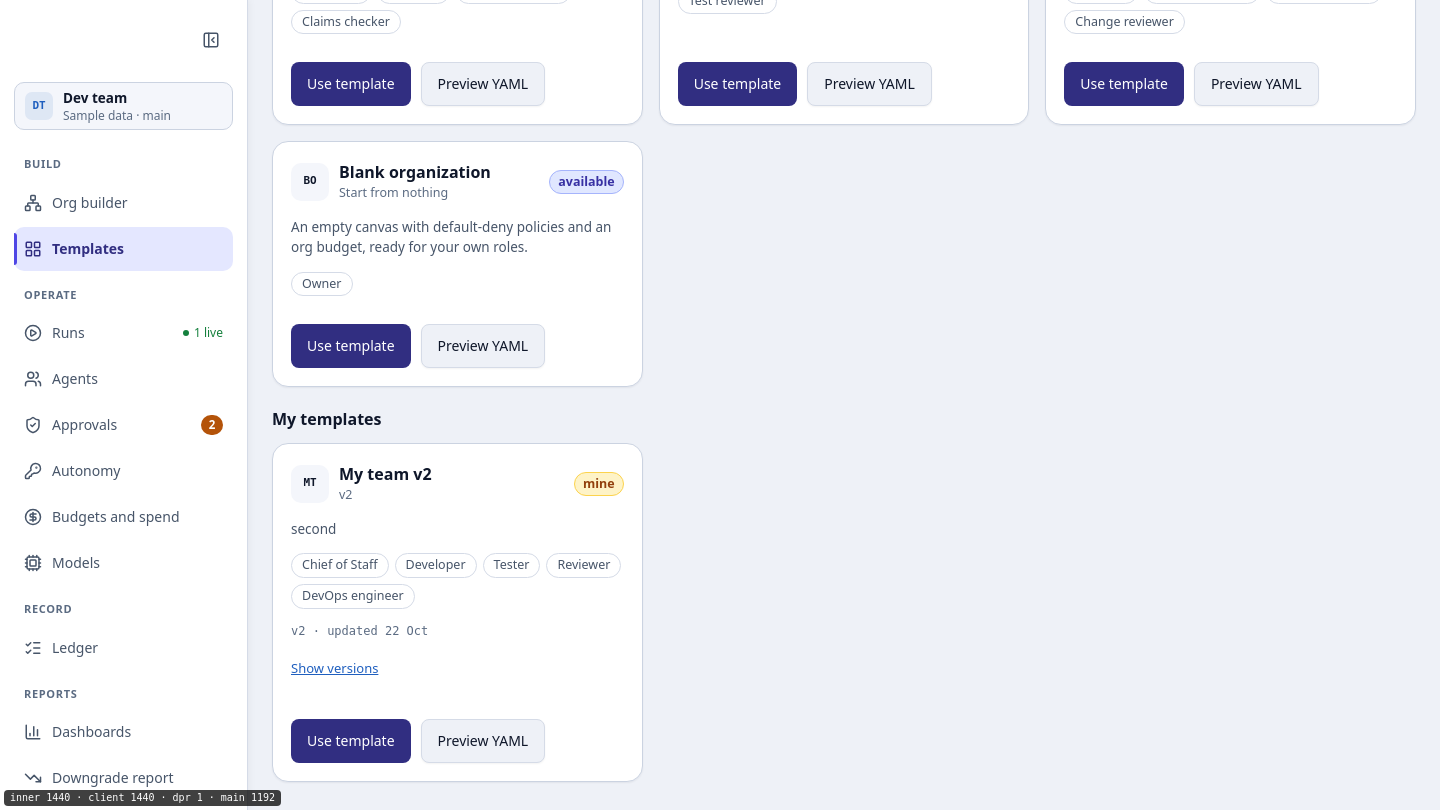
Test case: Templates › shows My templates with version and date, lets you list versions and use one
The width and height of the screenshot is (1440, 810).
(page scrolled)
expect the text "v2 · updated 22 Oct" is shown: met, box [291, 624, 428, 638]
Click the button "Show versions" at coordinates (335, 669), box [291, 647, 378, 691]
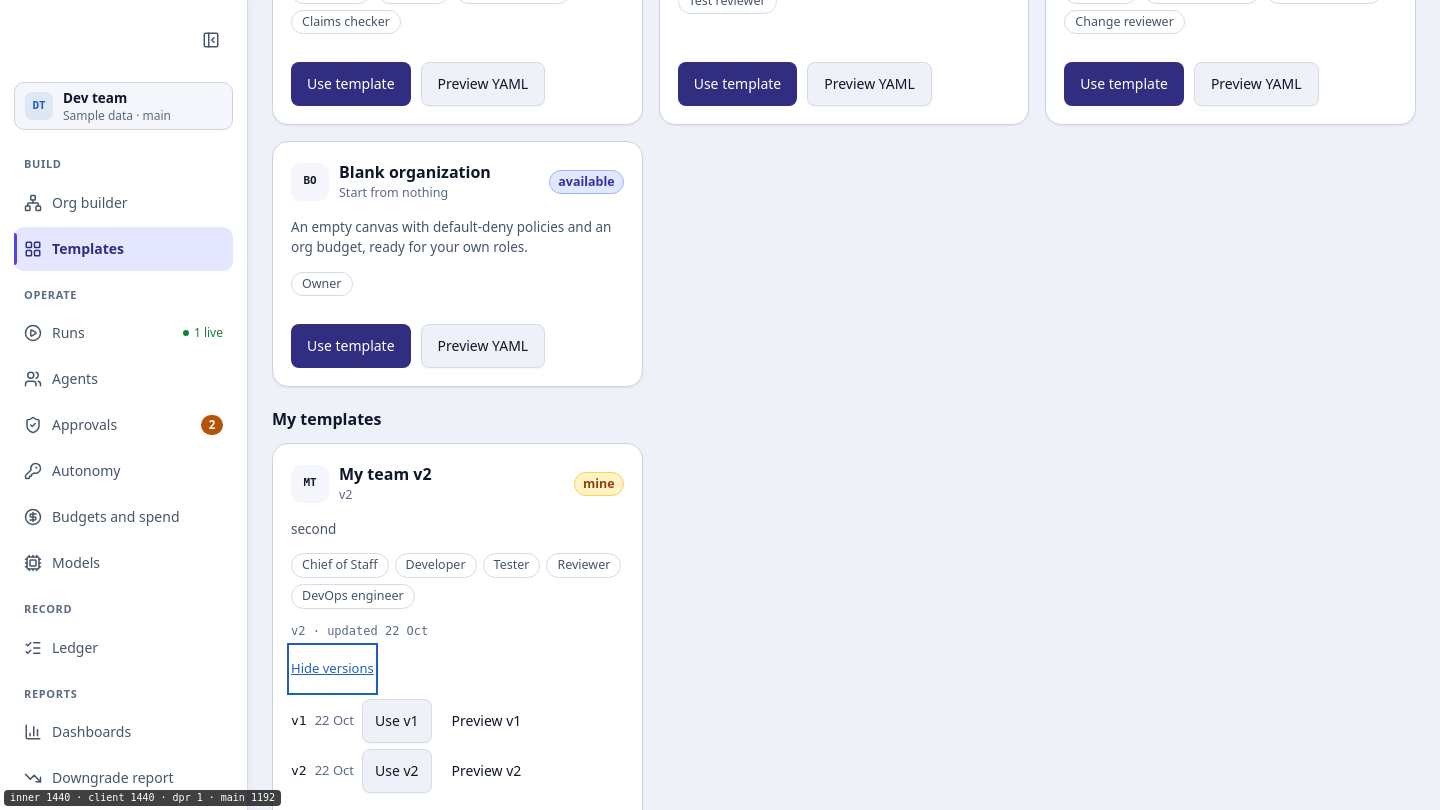
Click the button "Preview v1" at coordinates (486, 721), box [440, 699, 533, 743]
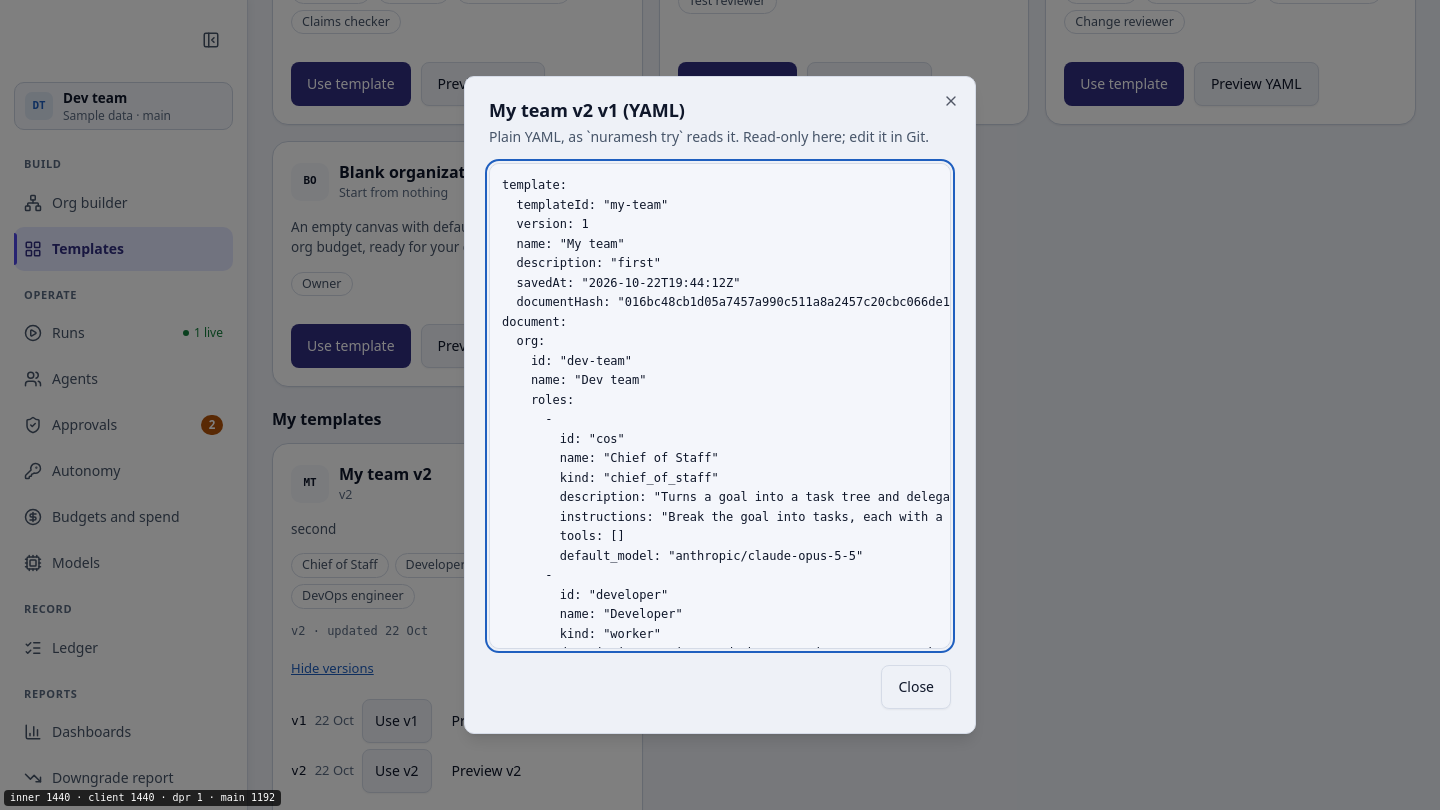
expect the dialog "My team v2 v1 (YAML)" is shown: met, box [464, 76, 976, 734]
